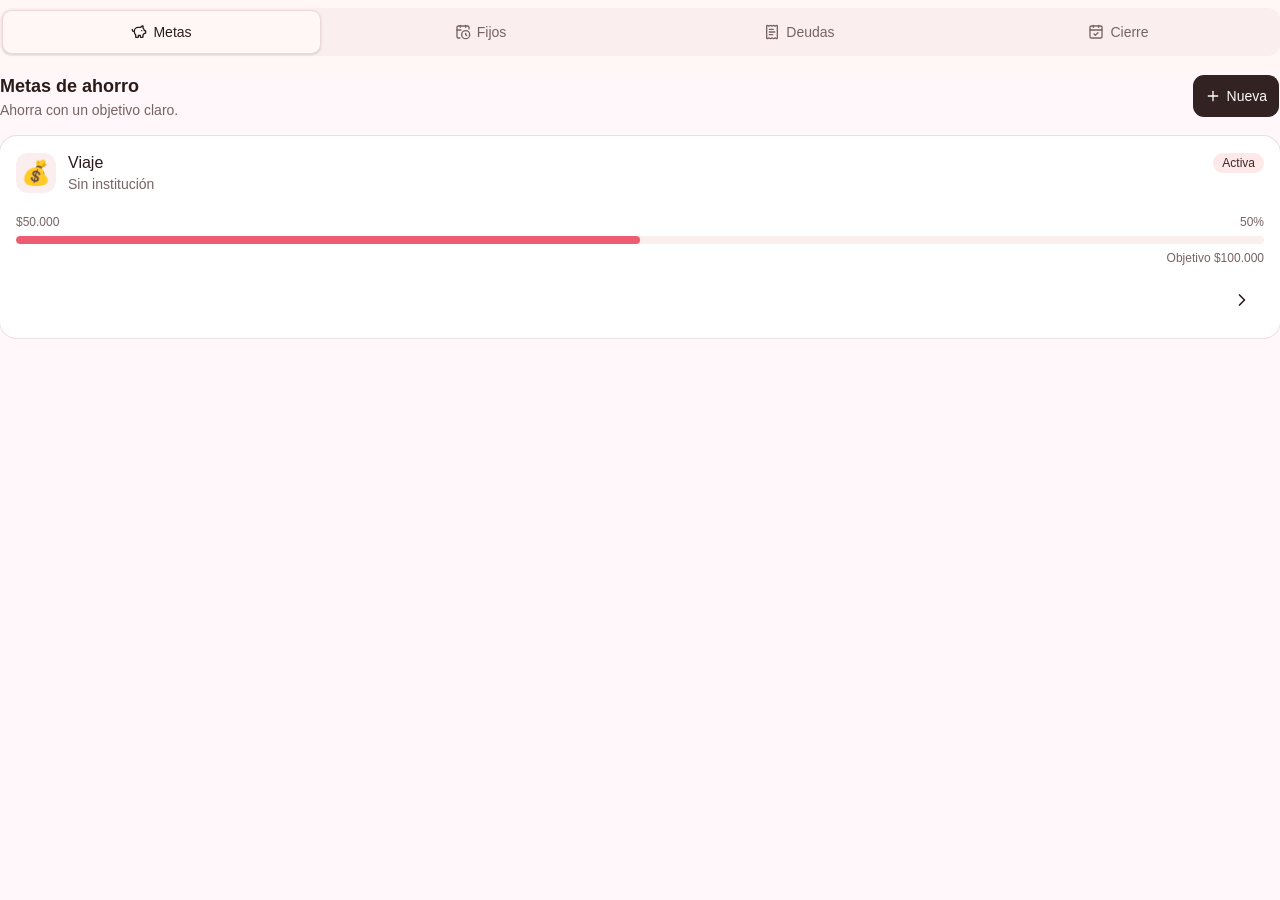
Test: PlanningPage › labels every related savings movement with its traceable concept
Expected: the text "Viaje" is shown, [68,154,103,171]
Click the button named "Ver detalle de Viaje": (1242, 300) [1220,278,1264,322]
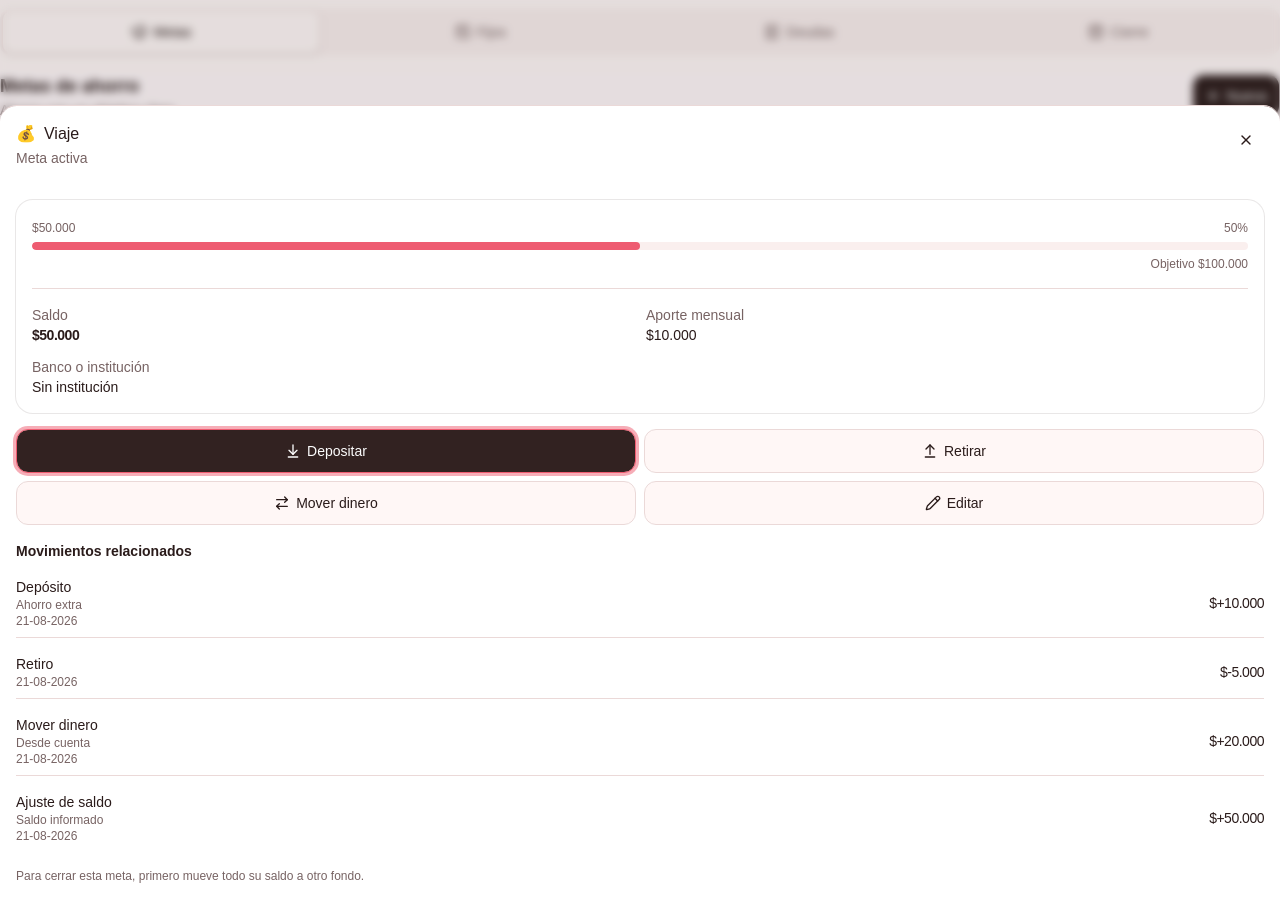
Expected: the text "Depósito" is shown, [16,579,71,595]
Expected: the text "Retiro" is shown, [16,656,53,672]
Expected: the text "Ajuste de saldo" is shown, [16,792,112,812]
